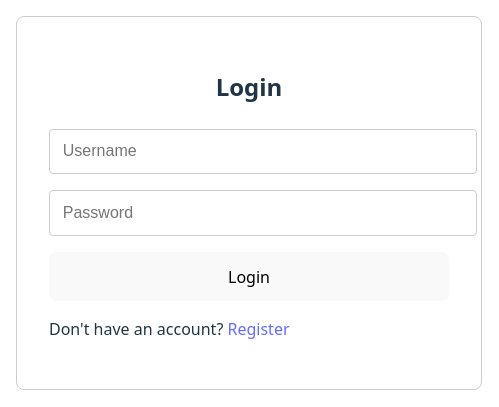
Test case: LoginForm › disables button while loading
The image size is (499, 407).
Type "testuser" into the field with placeholder "Username" at (263, 151), box x1=49 y1=129 x2=477 y2=174
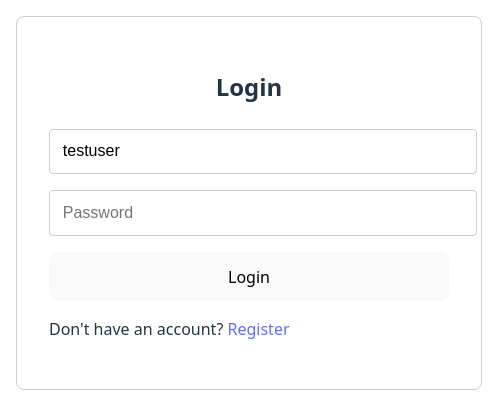
Type "testpass123" into the password field with placeholder "Password" at (263, 213), box x1=49 y1=190 x2=477 y2=236
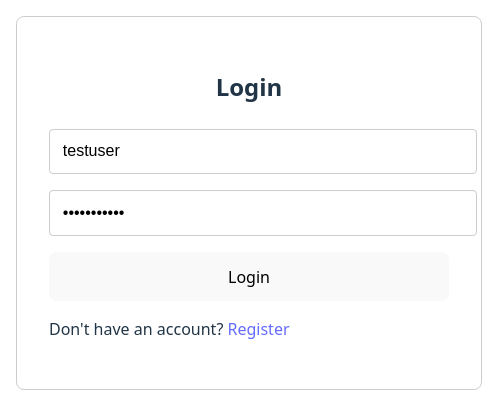
Click the button "Login" at (249, 277), box x1=49 y1=252 x2=449 y2=301
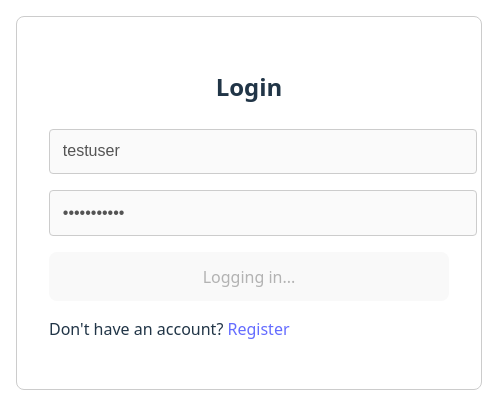
Expected: the button named "login" is disabled, x1=49 y1=252 x2=449 y2=301
